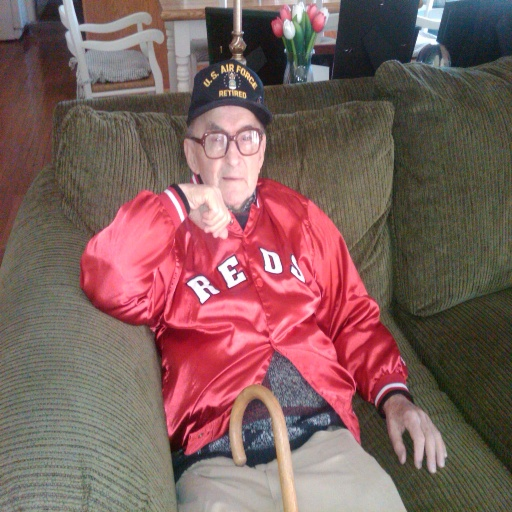hand: (377, 389, 453, 477), (179, 182, 231, 239)
